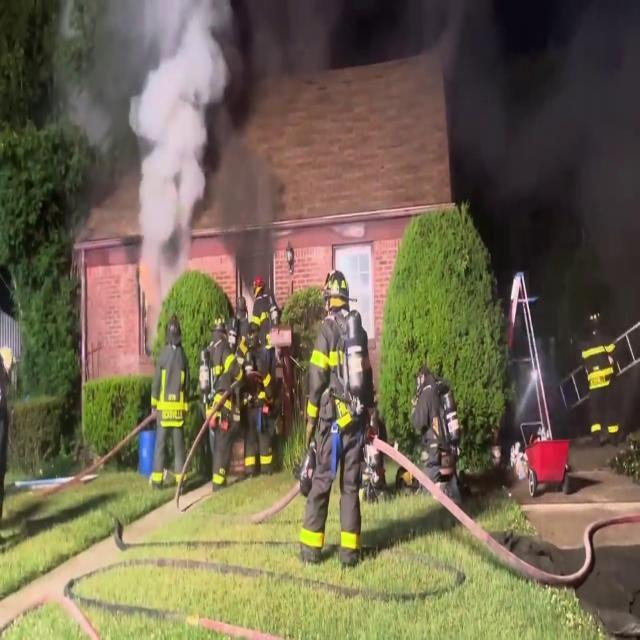Smoke: (68, 0, 328, 269), (432, 2, 640, 326)
